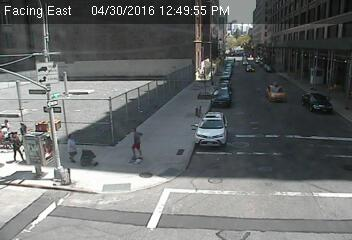neg: (163, 142, 190, 177), (34, 110, 57, 142), (28, 144, 49, 173), (44, 149, 63, 175), (188, 98, 206, 122), (78, 145, 96, 168)
pos: (123, 124, 153, 164), (56, 129, 83, 166), (1, 131, 26, 164), (11, 117, 35, 149)
